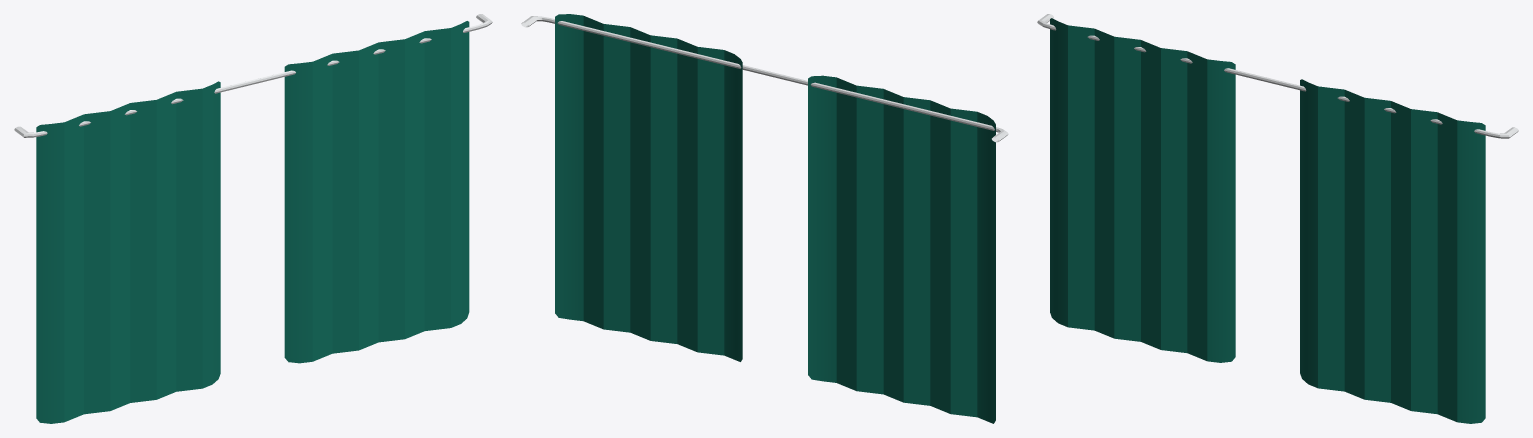
Rendered from curtains_a.glb.
3 renders of one model, left to right at view 1: azimuth 30°, elevation 25°; view 2: azimuth 150°, elevation 25°; view 3: azimuth 330°, elevation 25°, orthographic.
Visible parts, largest first — view 1: body; view 2: body; view 3: body.
Boxes of the visible parts, <box> form: body: <box>14,14,492,423</box>; body: <box>521,14,1008,423</box>; body: <box>1037,14,1518,423</box>.
Bounding box in the file's own units: 1.9 × 1.16 × 0.1.
